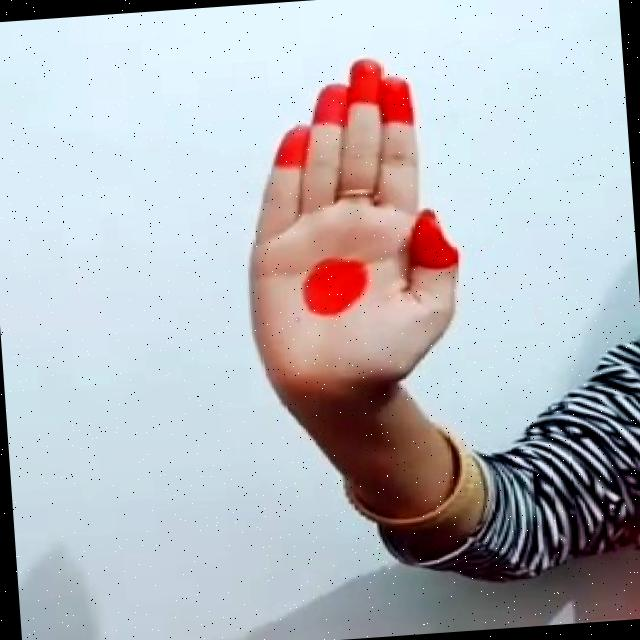Pataka: (182, 17, 498, 428)
bangle: (312, 434, 505, 536)
